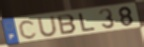3: (99, 8, 116, 30)
8: (118, 6, 135, 27)
B: (56, 13, 78, 36)
C: (18, 19, 39, 40)
L: (78, 12, 97, 33)
U: (36, 15, 60, 38)
